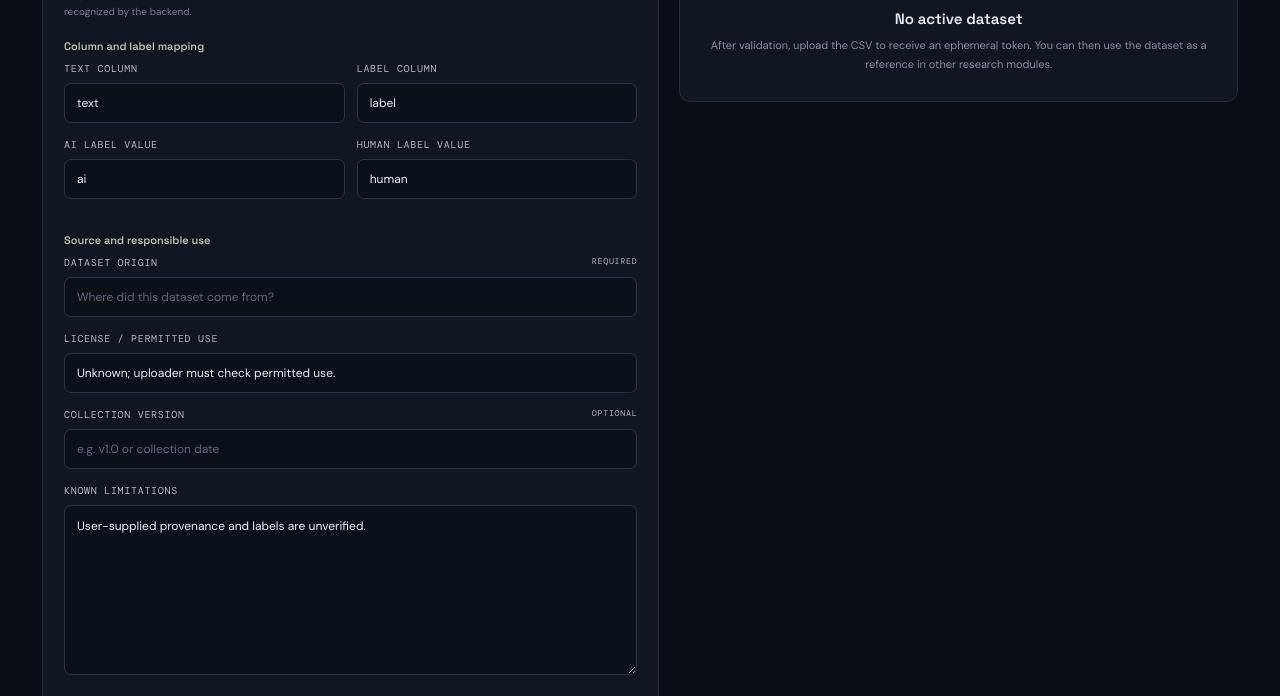
Test: DatasetLab › requires CSV content and dataset origin before making a request
(page scrolled)
Type "Synthetic test dataset" into the field with placeholder "Where did this dataset come from?". click: (351, 297)
box: x1=64 y1=277 x2=637 y2=317
(page scrolled)
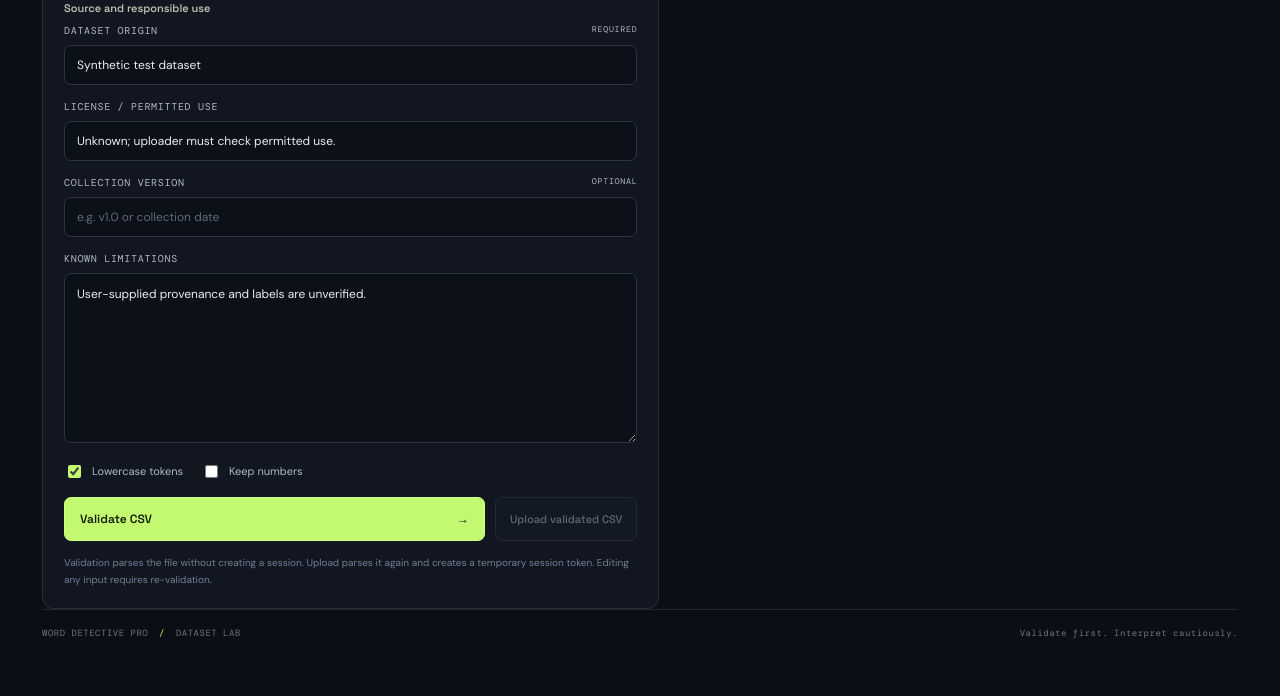
Click the button "Validate CSV →". click: click(116, 519)
box: x1=64 y1=497 x2=485 y2=541
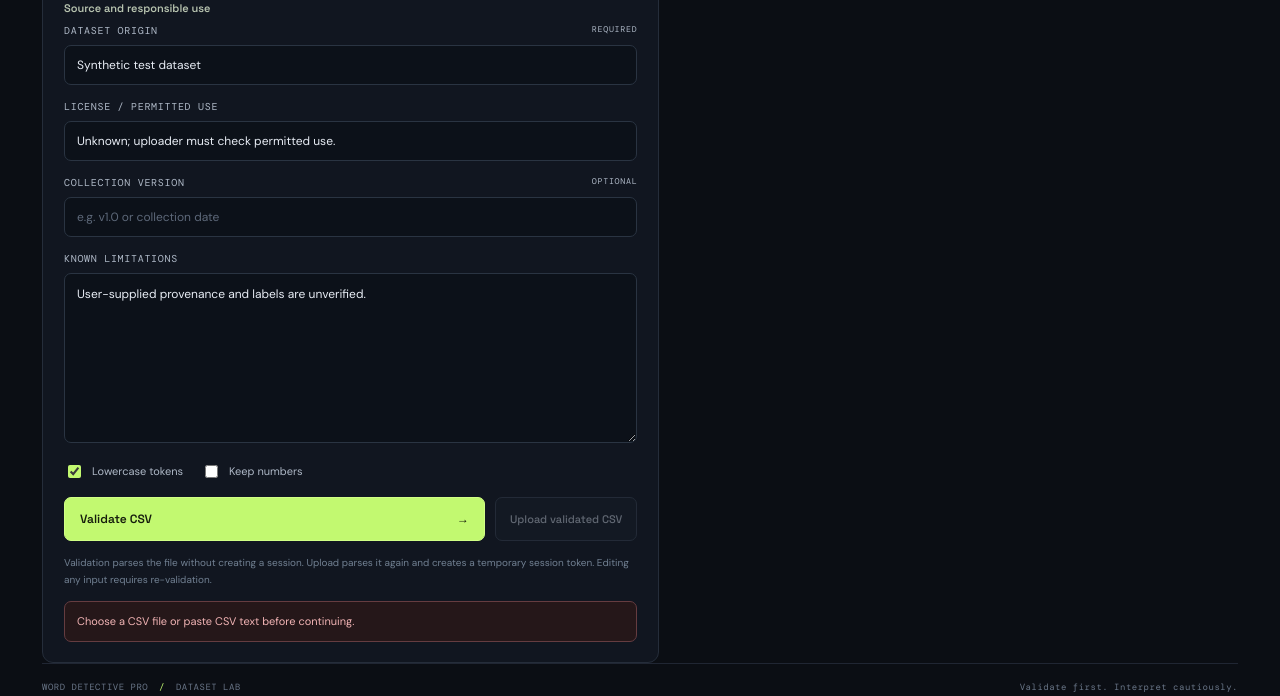
Expected: the message reads "Choose a CSV file or paste CSV text before continuing.", x1=77 y1=614 x2=354 y2=628
